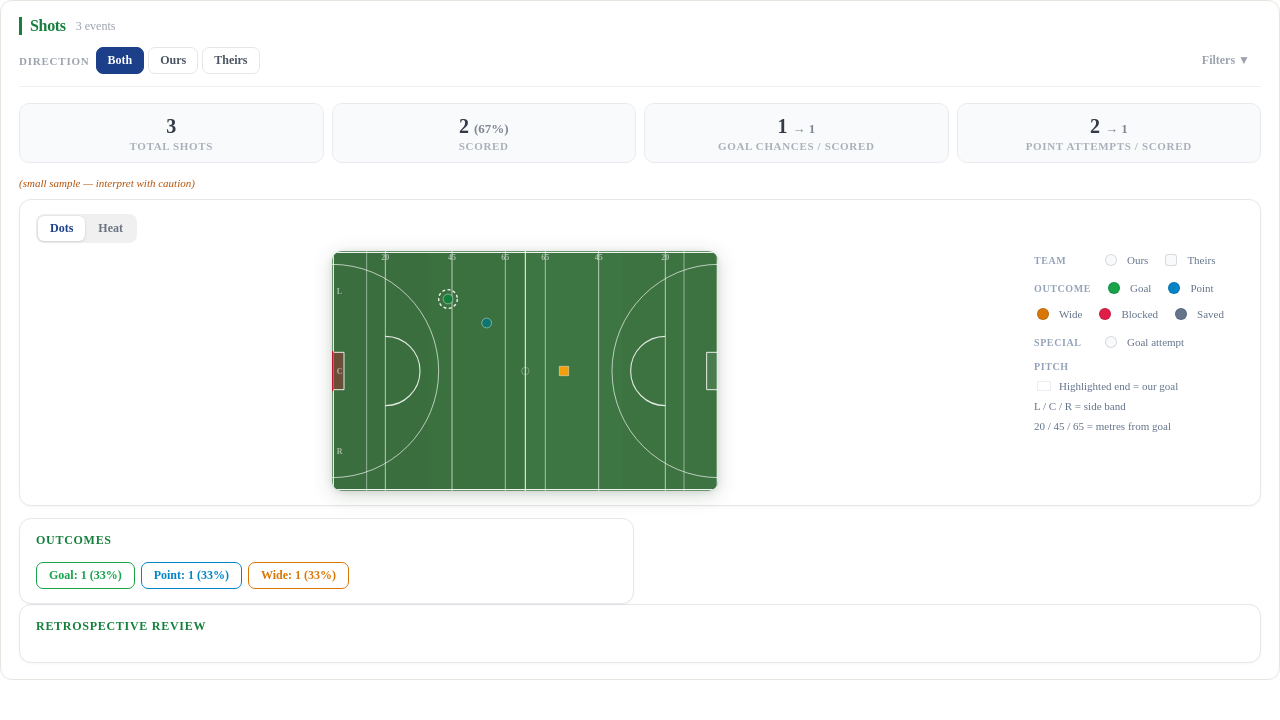
Test: AnalyticsPanel legends › renders richer shot outcome legends and heat labels
Expected: the text "Goal" is shown, [1105,279,1151,297]
Expected: the text "Point" is shown, [1165,279,1214,297]
Click the button "Heat" at (111, 228), box [86,216,135,241]
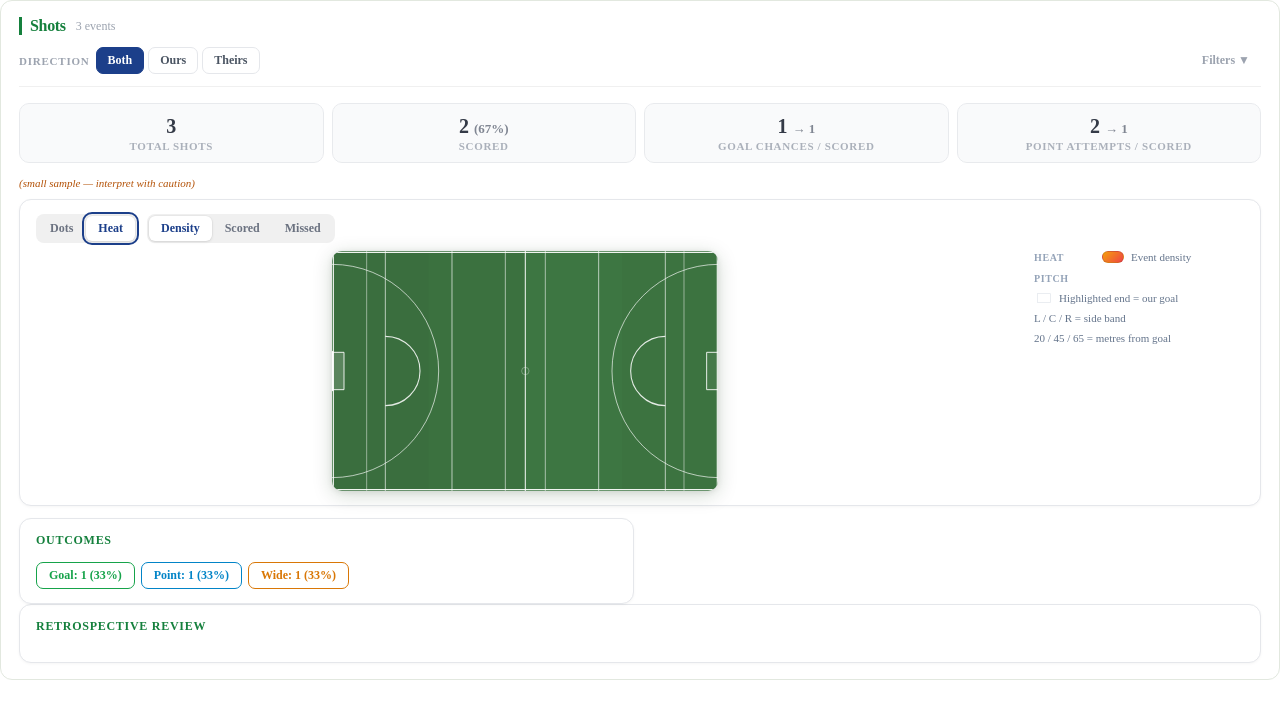
Click the button "Scored" at (242, 228), box [213,216,272,241]
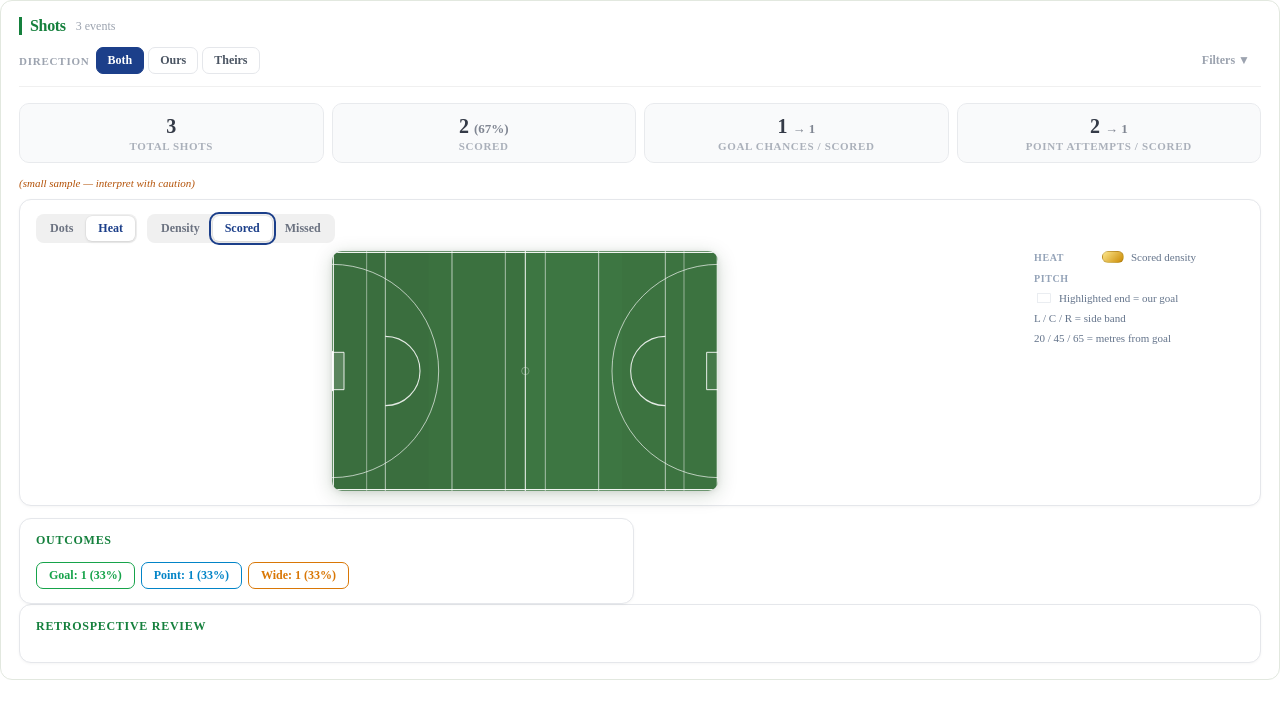
Expected: the button "Scored" is shown, [213,216,272,241]
Expected: the button "Missed" is shown, [273,216,333,241]
Expected: the text "Scored density" is shown, [1102,251,1196,263]
